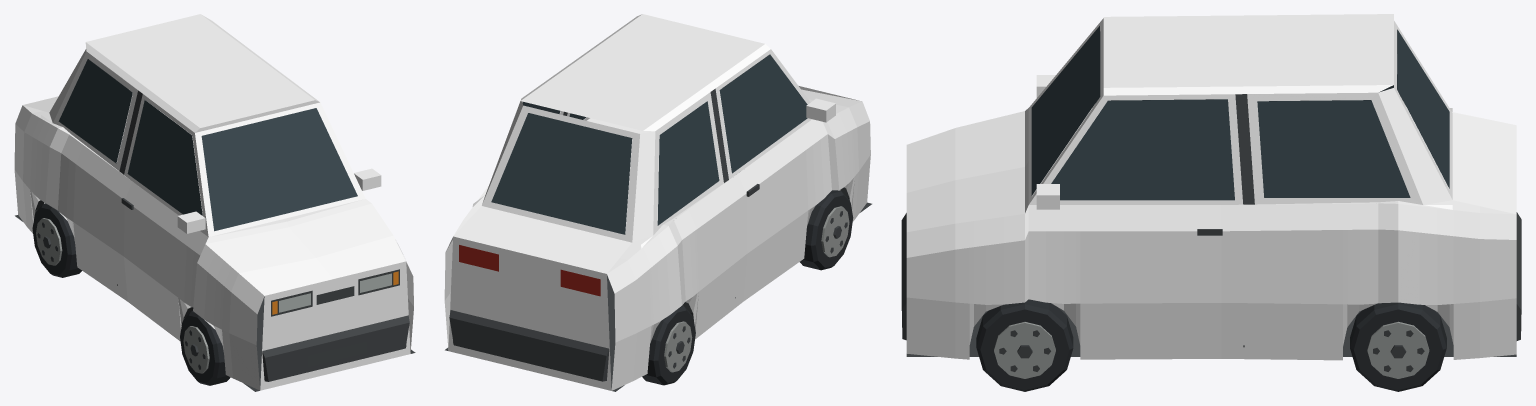
File: mizuchi_wadachi_ii.glb
The picture shows the model from 3 angles, left to right: view 1: azimuth 30°, elevation 25°; view 2: azimuth 150°, elevation 25°; view 3: azimuth 270°, elevation 25°; orthographic projection. The views are drawn at different scales.
Visible parts, largest first — view 1: mizuchi_wadachi_ii; view 2: mizuchi_wadachi_ii; view 3: mizuchi_wadachi_ii.
Boxes of the visible parts, x1,y1,x2,y2 form: mizuchi_wadachi_ii: (14,14,415,391); mizuchi_wadachi_ii: (444,14,871,391); mizuchi_wadachi_ii: (901,14,1521,391).
Size of the model in its own units: 1.46 by 1.63 by 3.17.
8 materials, 1 textured.
